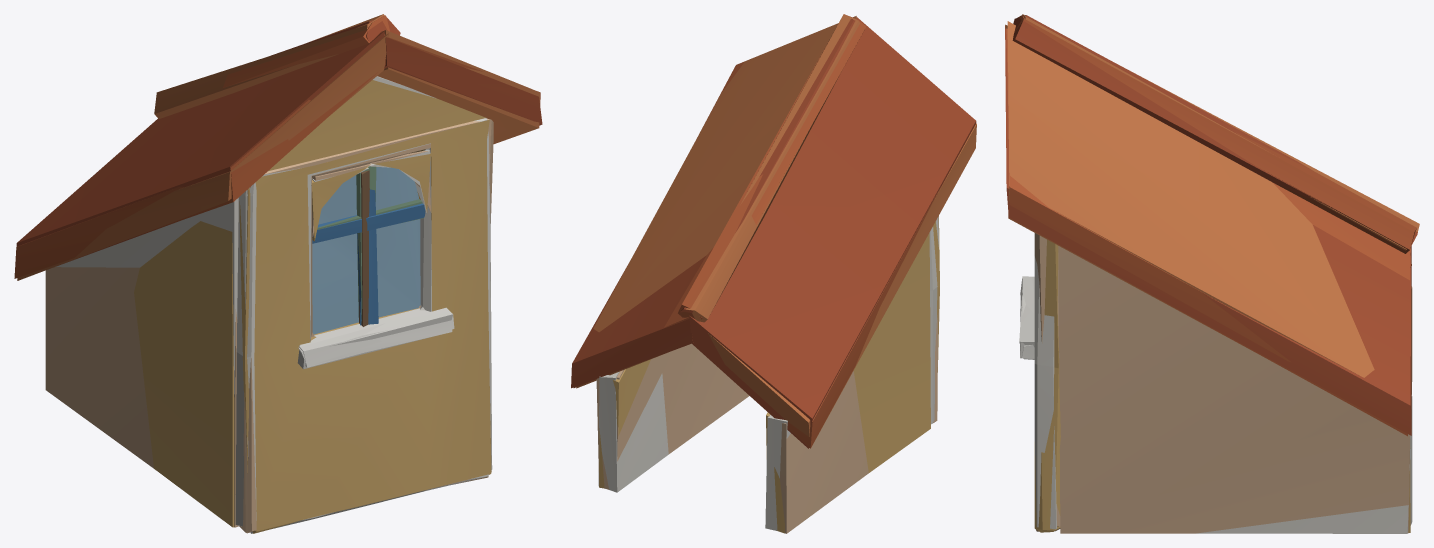
The model's file is dormer.glb.
3 views of the same model, side by side, from view 1: azimuth 30°, elevation 25°; view 2: azimuth 150°, elevation 25°; view 3: azimuth 270°, elevation 25° (orthographic). The views are drawn at different scales.
Visible parts, largest first — view 1: dormer.v1.mesh, dormer.v2.mesh, dormer.v0.mesh; view 2: dormer.v2.mesh, dormer.v1.mesh, dormer.v0.mesh; view 3: dormer.v2.mesh, dormer.v1.mesh, dormer.v0.mesh.
Boxes of the visible parts, bbox=[...] form: dormer.v1.mesh: bbox=[17, 14, 539, 533]; dormer.v2.mesh: bbox=[16, 17, 542, 533]; dormer.v0.mesh: bbox=[14, 15, 540, 533]; dormer.v2.mesh: bbox=[571, 17, 975, 533]; dormer.v1.mesh: bbox=[576, 14, 976, 533]; dormer.v0.mesh: bbox=[573, 14, 976, 530]; dormer.v2.mesh: bbox=[1005, 15, 1417, 533]; dormer.v1.mesh: bbox=[1005, 14, 1419, 532]; dormer.v0.mesh: bbox=[1006, 15, 1416, 533].
Bounding box in the file's own units: 0.7695 × 1.16 × 0.9407.
